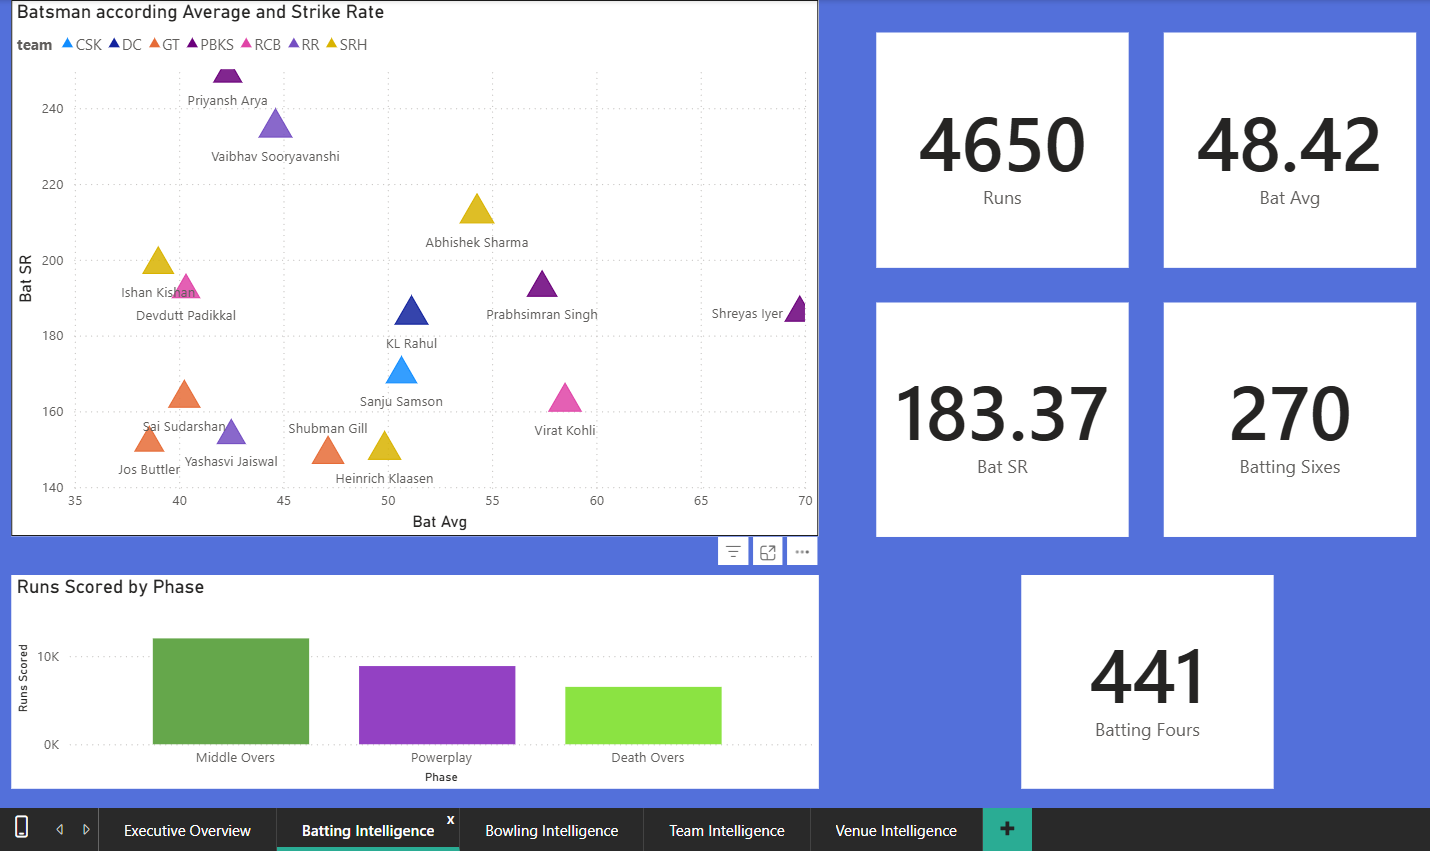

This screenshot's page, from the dashboard's own definition file:
{"tool":"powerbi","page":{"name":"Batting Intelligence","canvas":[1280,720],"ordinal":1},"visuals":[{"type":"scatterChart","title":"Batsman according Average and Strike Rate","fields":{"X":["New Measures.Bat Avg"],"Y":["New Measures.Bat SR"],"Size":["New Measures.Runs"],"Category":["batting_stats.batsman"],"Series":["batting_stats.team"]},"box":[9.6,13.7,719,477.5],"z":0},{"type":"columnChart","fields":{"Category":["deliveries.Phase"],"Y":["New Measures.Runs Scored"]},"box":[9.6,511.8,719,190.7],"z":1000},{"type":"card","fields":{"Values":["New Measures.Runs"]},"box":[780.8,28.8,225,209.9],"z":2000},{"type":"card","fields":{"Values":["New Measures.Bat Avg"]},"box":[1036,28.8,225,209.9],"z":3000},{"type":"card","fields":{"Values":["New Measures.Bat SR"]},"box":[780.8,269,225,208.6],"z":4000},{"type":"card","fields":{"Values":["New Measures.Batting Sixes"]},"box":[1036,269,225,208.6],"z":5000},{"type":"card","fields":{"Values":["New Measures.Batting Fours"]},"box":[909.8,511.8,225,190.7],"z":6000}]}

Visuals, with their boxes on the page's 1280x720 design canvas (x1, y1, x2, y2). These are canvas units, not pixel positions in the 1430x851 screenshot, which may show the page scaled, cropped or inside an application window:
"Batsman according Average and Strike Rate" scatterChart: [left=10, top=14, right=729, bottom=491]
columnChart - deliveries.Phase x New Measures.Runs Scored: [left=10, top=512, right=729, bottom=702]
card - New Measures.Runs: [left=781, top=29, right=1006, bottom=239]
card - New Measures.Bat Avg: [left=1036, top=29, right=1261, bottom=239]
card - New Measures.Bat SR: [left=781, top=269, right=1006, bottom=478]
card - New Measures.Batting Sixes: [left=1036, top=269, right=1261, bottom=478]
card - New Measures.Batting Fours: [left=910, top=512, right=1135, bottom=702]
